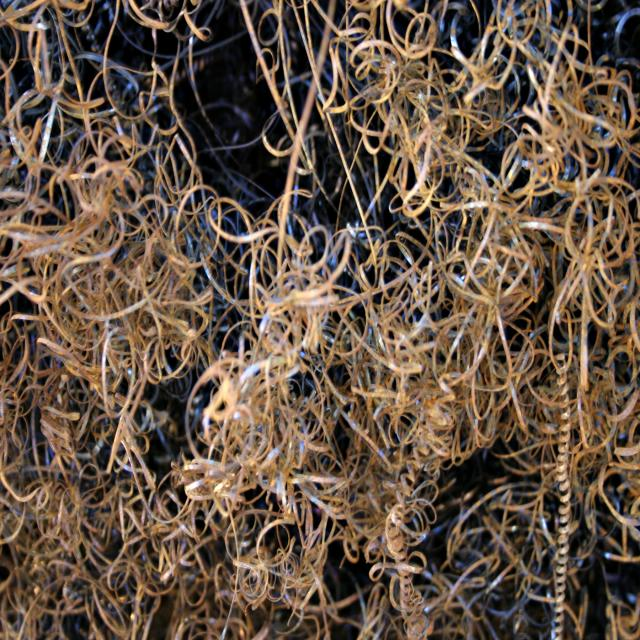metal: (116, 237, 552, 592)
